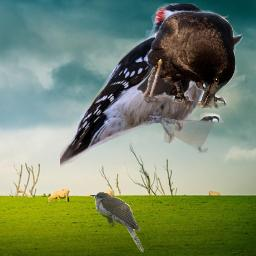Crow: (135, 10, 245, 109)
Cuckoo: (90, 192, 144, 254)
Woodpecker: (60, 3, 229, 167)
